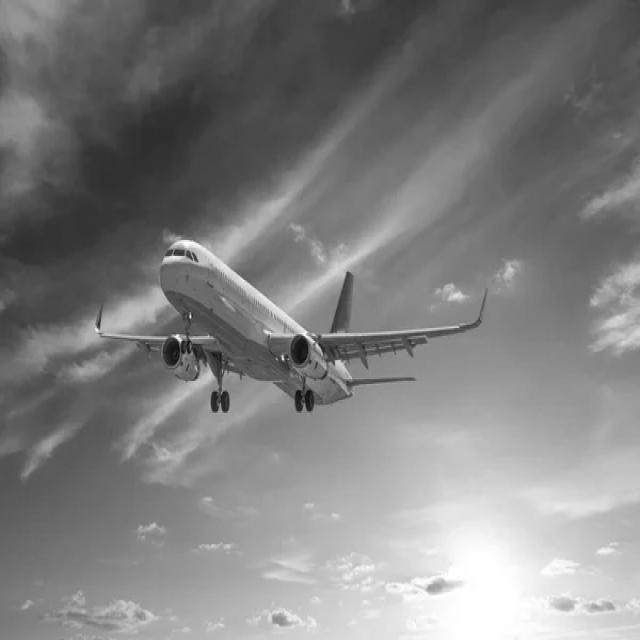Aircraft: (86, 232, 494, 422)
